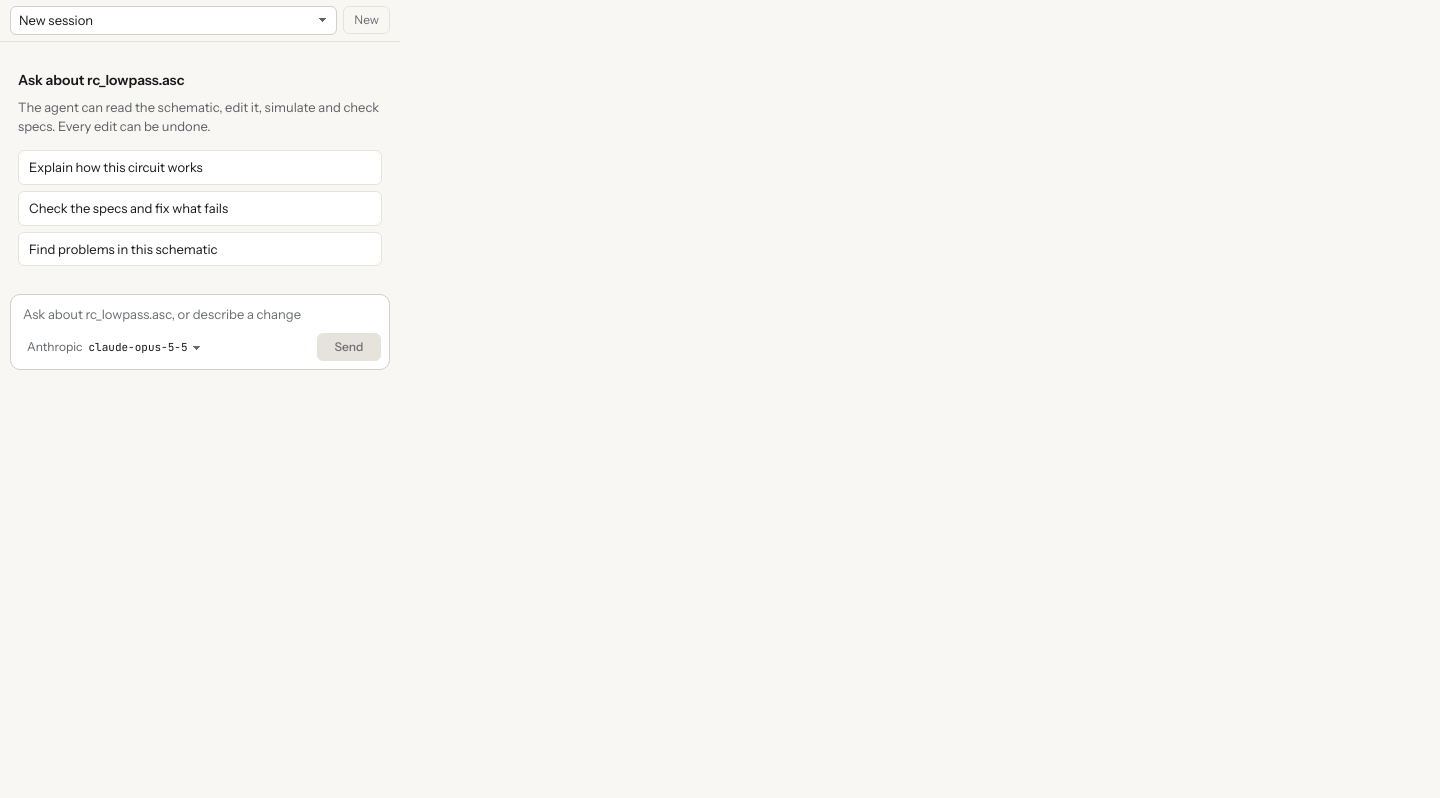
ChatPanel › shows an approval prompt in ask mode and applies on Apply
Type "Move the corner" into the text box named "Message" at (200, 315), box [19,303,381,327]
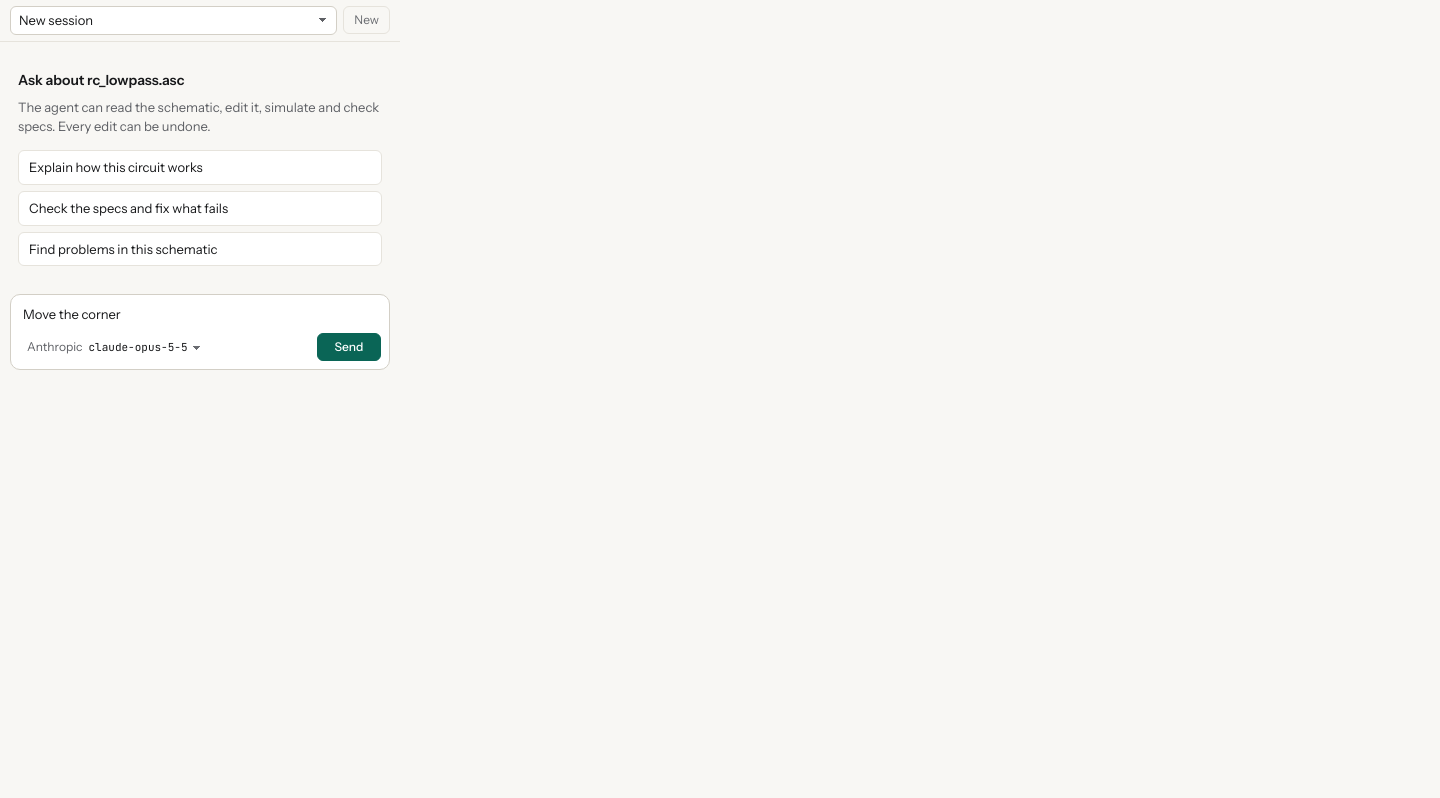
Click the button "Send" at (349, 347), box [317,333,381,361]
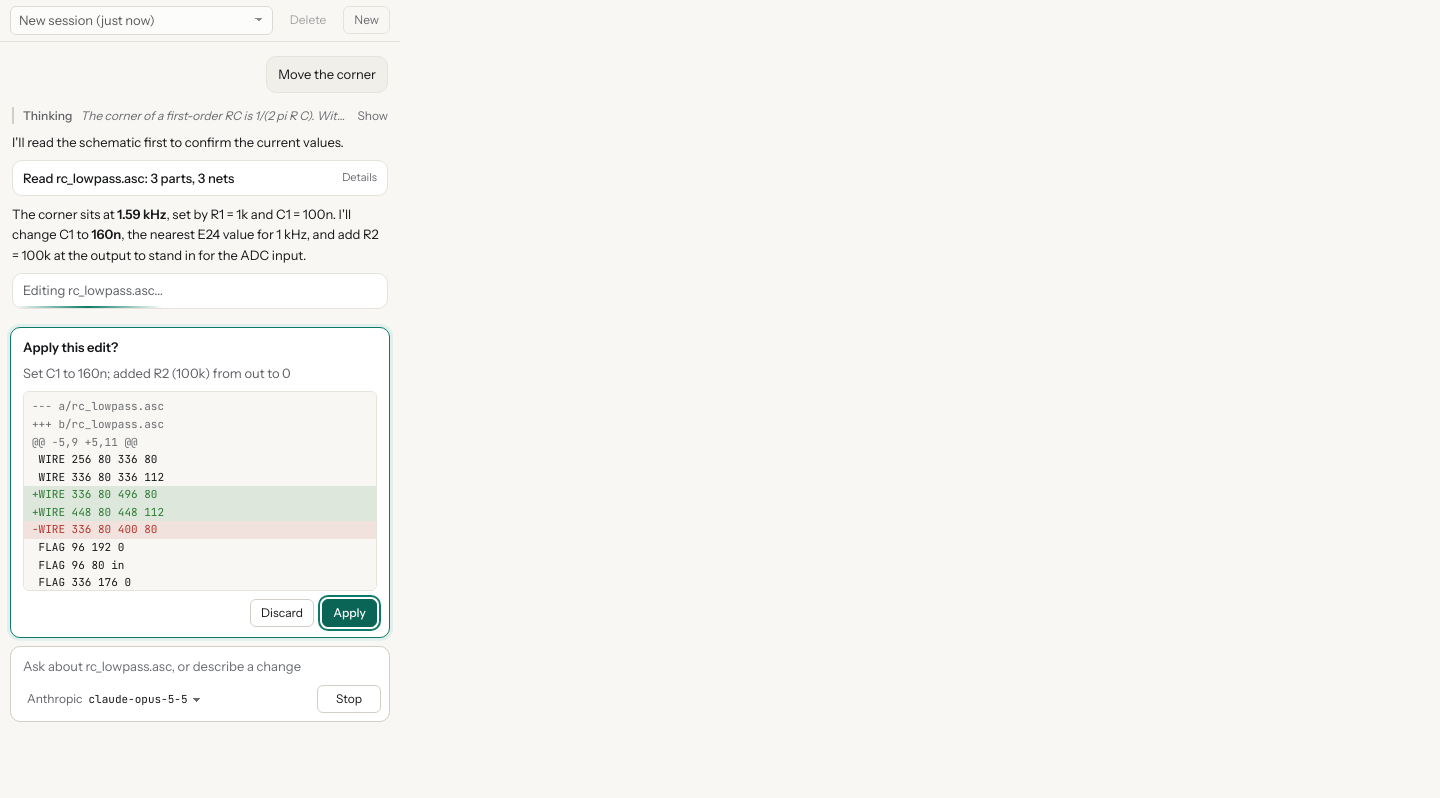
Expected: the dialog named "Edit waiting for approval" shows "Apply this edit?", [23,339,118,355]
Click the button "Apply" at (350, 613), box [322,599,377,627]
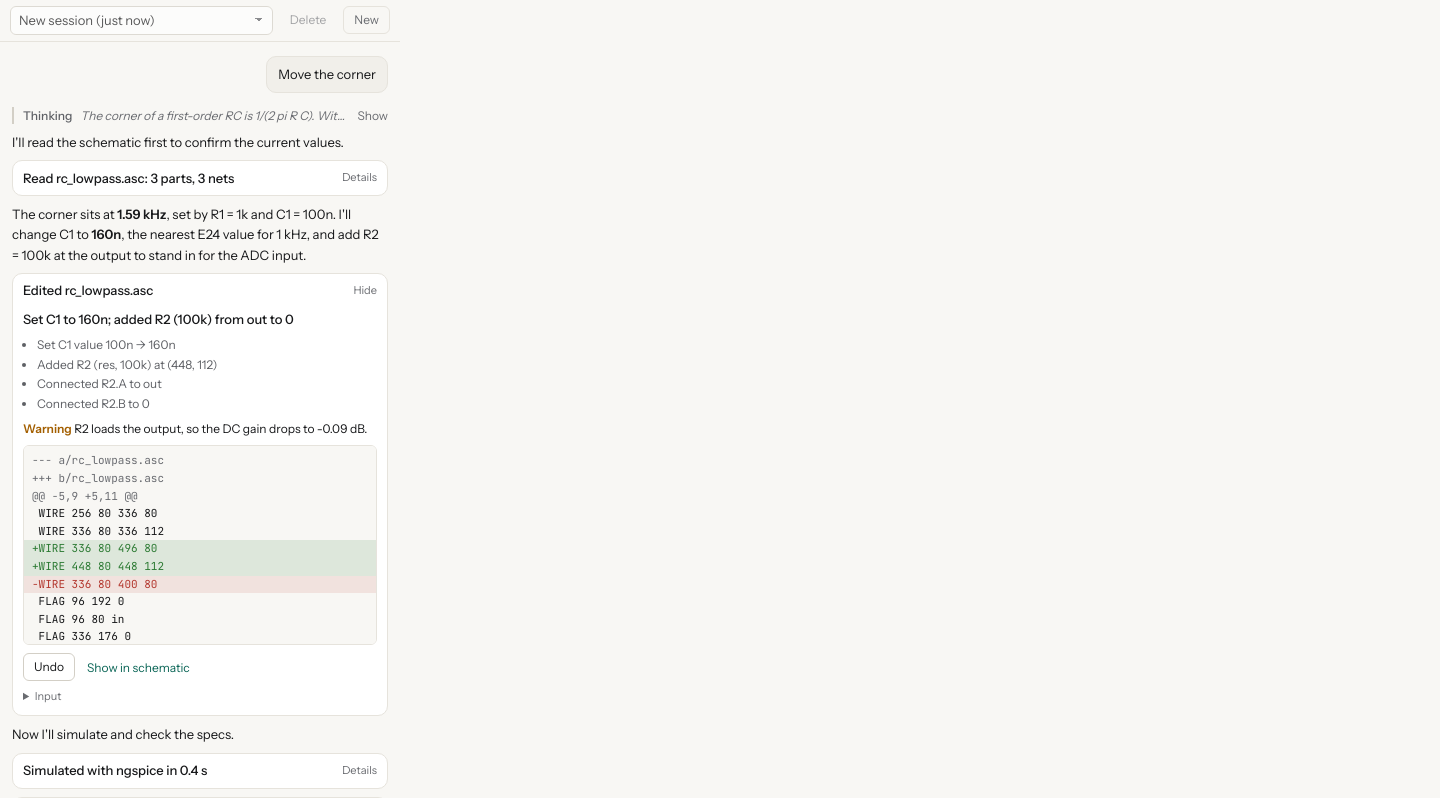
Expected: the button "Edited rc_lowpass.asc Hide" is shown, [13,274,387,308]
